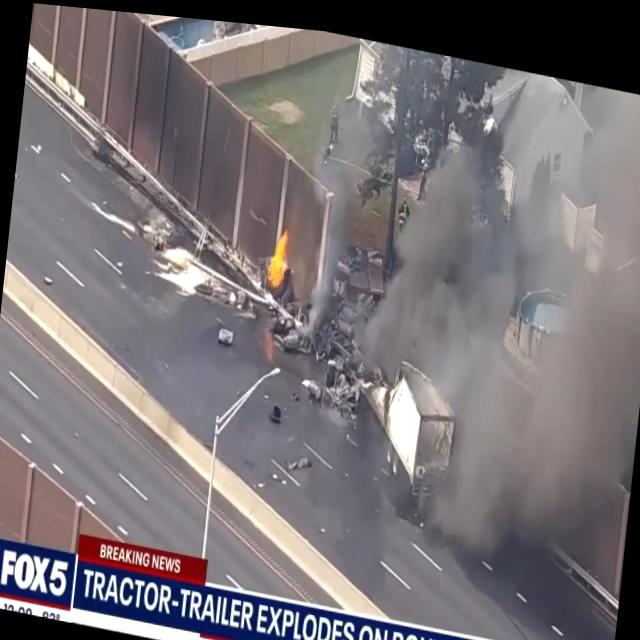fire: (260, 215, 292, 293)
